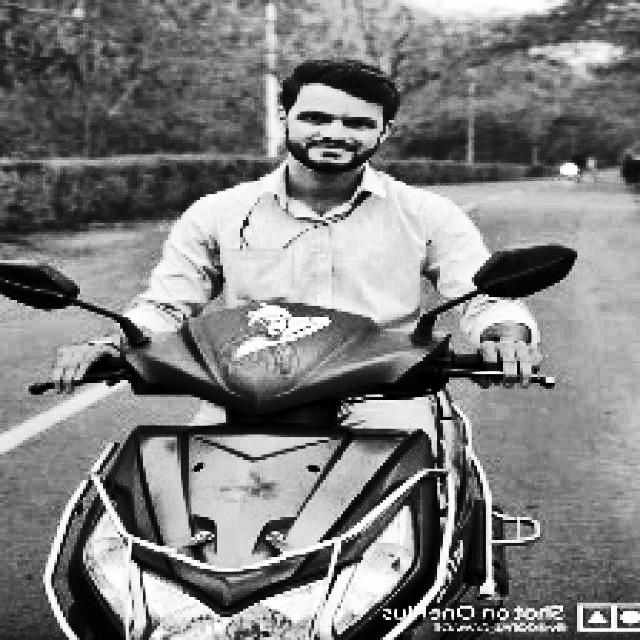Bike: (69, 310, 522, 640)
